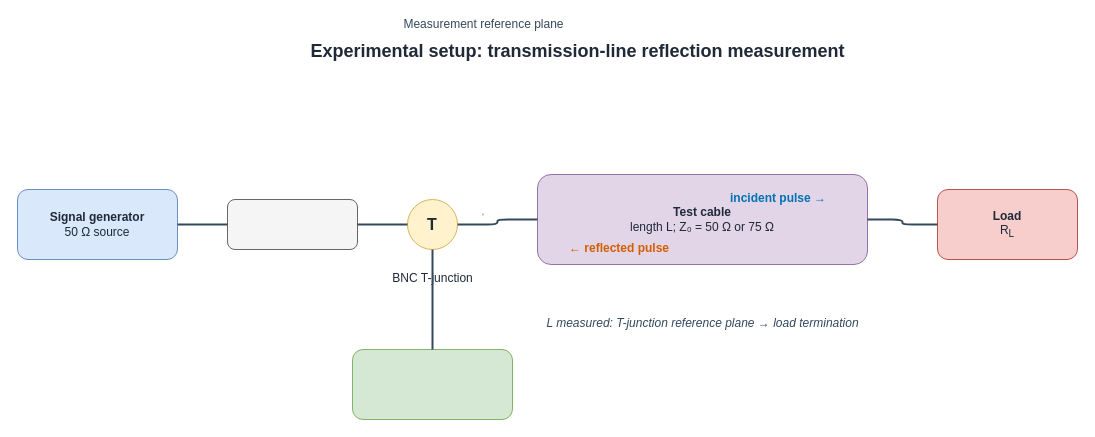
Some shapes in this 1095 by 437 pixel diagram are drawn without their labels. Each missing label, with the centre of its shape:
"Oscilloscope CH4, 1 MΩ" goes at (432,384).
"RG316 20 cm" goes at (292,224).
